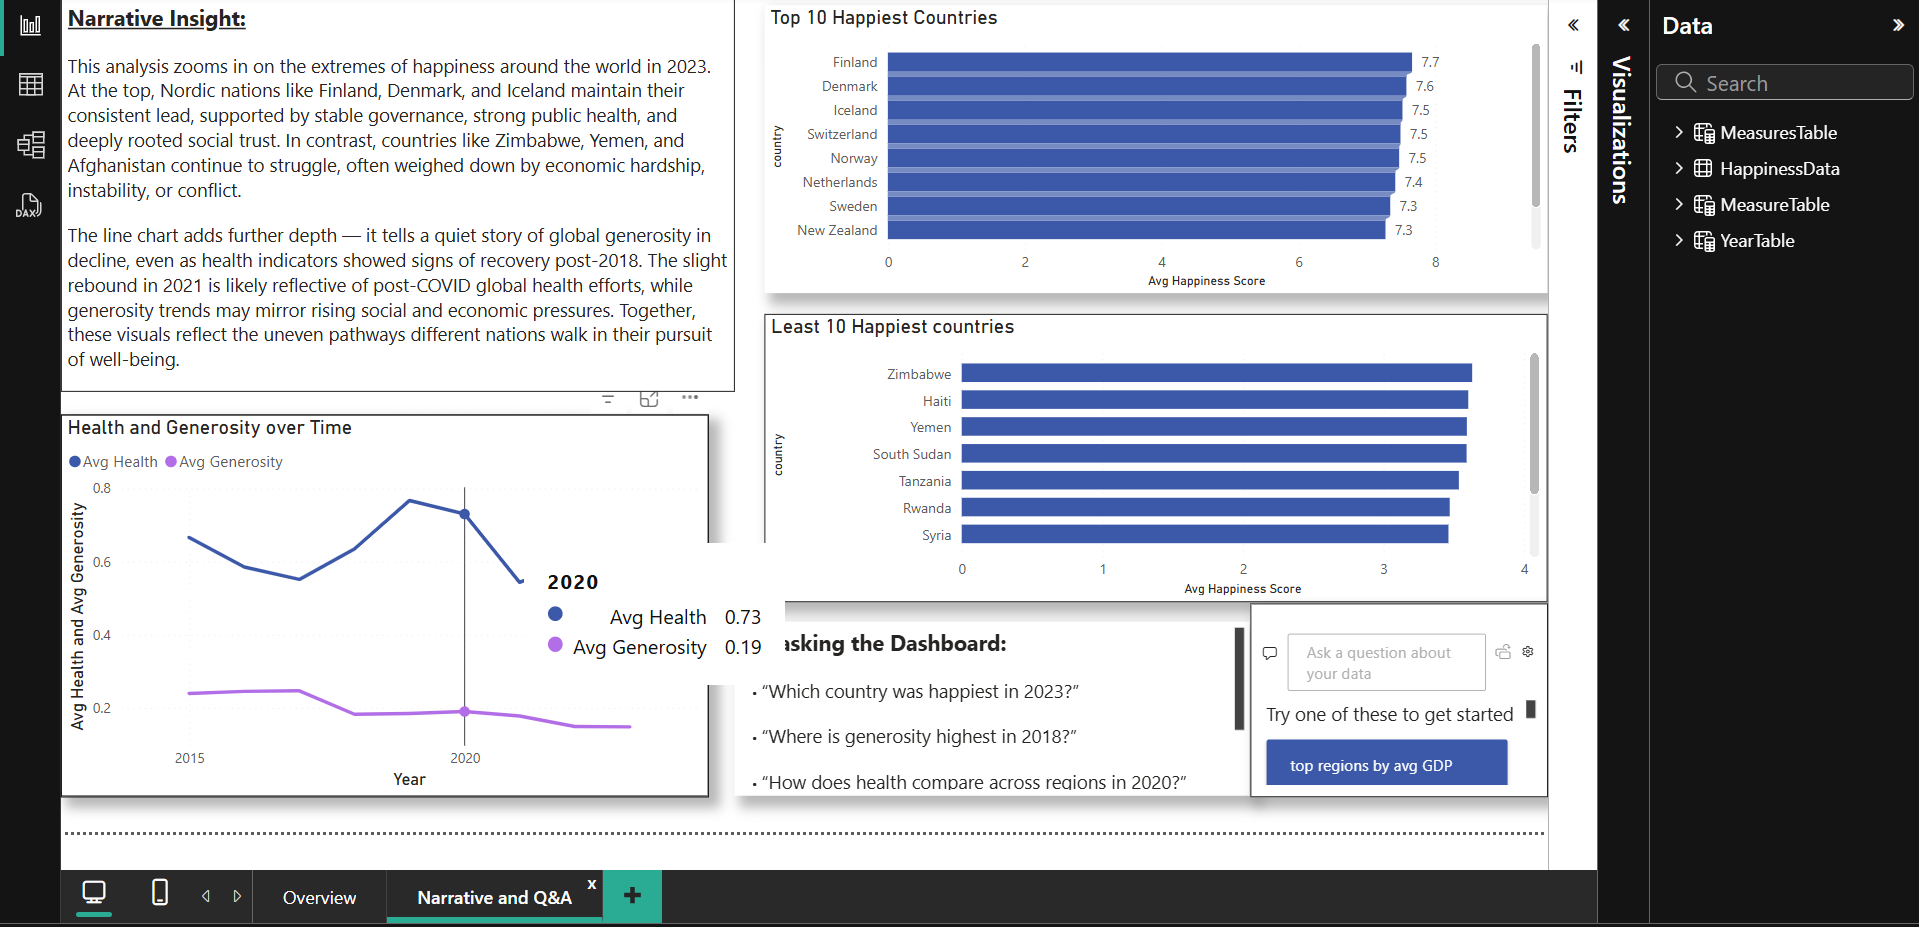

The page's visual inventory and layout, read from the dashboard file:
{"tool":"powerbi","page":{"name":"Narrative and Q&A","canvas":[1280,720],"ordinal":1},"visuals":[{"type":"barChart","title":"Top 10 Happiest Countries","fields":{"Y":["MeasuresTable.Avg Happiness Score"],"Category":["HappinessData.country"]},"box":[605.7,7.6,673.8,248.3],"z":0},{"type":"barChart","title":"Least 10 Happiest countries","fields":{"Y":["MeasuresTable.Avg Happiness Score"],"Category":["HappinessData.country"]},"box":[605.7,274.1,673.8,248.3],"z":1000},{"type":"slicer","fields":{"Values":["YearTable.Year"]},"box":[414.9,255.9,142.3,89.3],"z":2000},{"type":"lineChart","title":"Health and Generosity over Time","fields":{"Category":["YearTable.Year"],"Y":["MeasuresTable.Avg Health","MeasuresTable.Avg Generosity"]},"box":[0,360.4,557.2,328.6],"z":3000},{"type":"textbox","box":[0,0,579.9,340.7],"z":4000},{"type":"textbox","box":[579.9,539.1,443.7,149.9],"z":5000},{"type":"qnaVisual","box":[1023.6,522.4,255.9,166.6],"z":6000}]}

Visuals, with their boxes on the page's 1280x720 design canvas (x1, y1, x2, y2). These are canvas units, not pixel positions in the 1919x927 screenshot, which may show the page scaled, cropped or inside an application window:
"Top 10 Happiest Countries" barChart: bbox=[606, 8, 1280, 256]
"Least 10 Happiest countries" barChart: bbox=[606, 274, 1280, 522]
slicer - YearTable.Year: bbox=[415, 256, 557, 345]
"Health and Generosity over Time" lineChart: bbox=[0, 360, 557, 689]
textbox: bbox=[0, 0, 580, 341]
textbox: bbox=[580, 539, 1024, 689]
qnaVisual: bbox=[1024, 522, 1280, 689]
